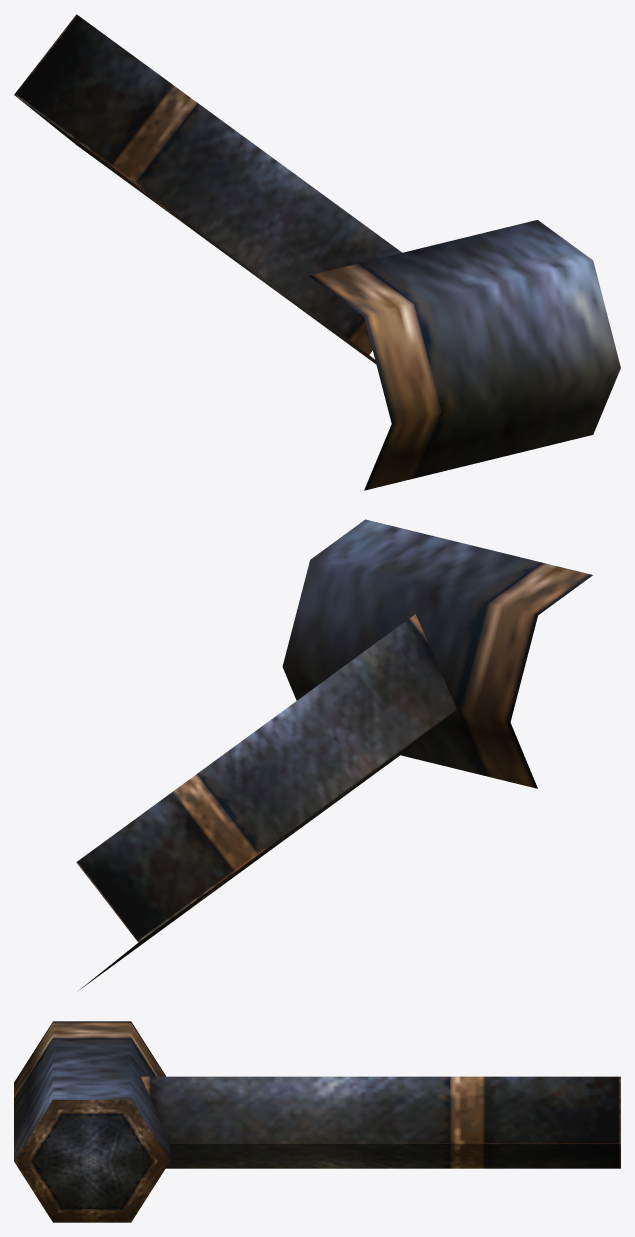
Rendered from FootholdRight.gltf.
3 views of the same model, one above another, from view 1: azimuth 30°, elevation 25°; view 2: azimuth 150°, elevation 25°; view 3: azimuth 270°, elevation 25° (orthographic). The views are drawn at different scales.
Visible parts, largest first — view 1: SidleHandleRightMesh; view 2: SidleHandleRightMesh; view 3: SidleHandleRightMesh.
Boxes of the visible parts, left/top/right/bottom form: SidleHandleRightMesh: left=14, top=14, right=620, bottom=490; SidleHandleRightMesh: left=76, top=519, right=592, bottom=990; SidleHandleRightMesh: left=14, top=1021, right=620, bottom=1222.
Bounding box in the file's own units: 0.1988 × 0.1445 × 0.648.
Materials: 1 (1 with a texture image).
